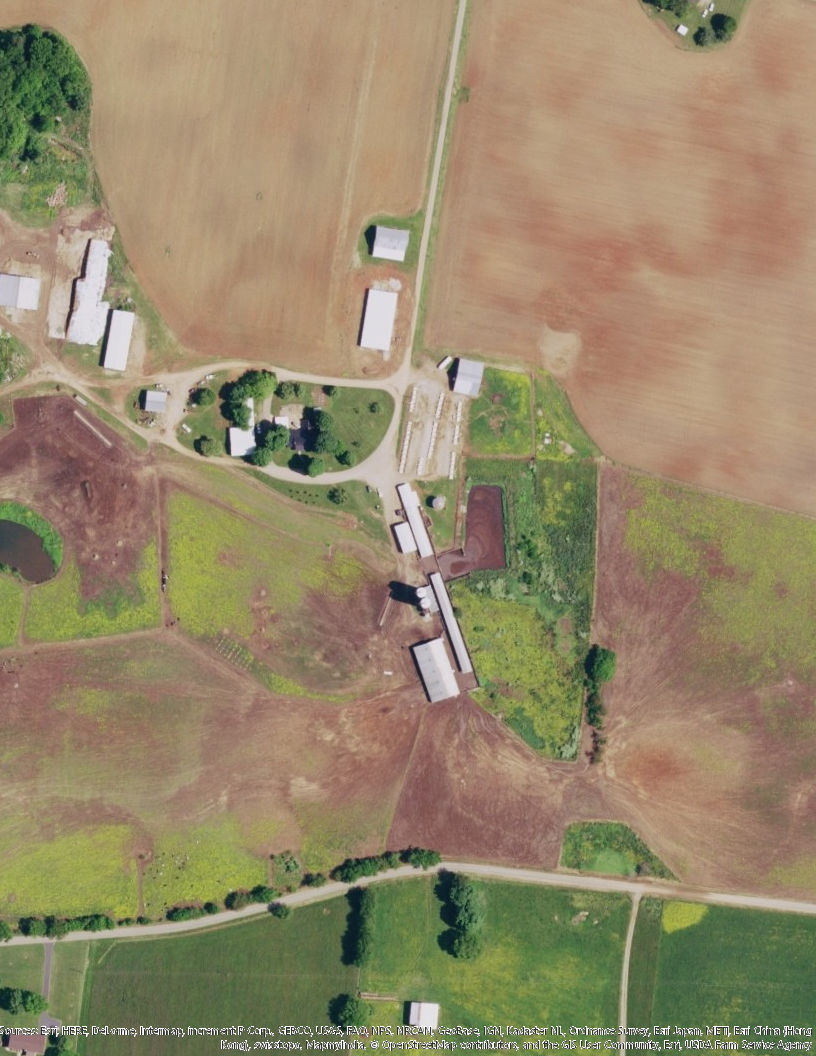cafo: (413, 569, 481, 674), (62, 234, 112, 348), (405, 632, 466, 707), (387, 478, 441, 562), (351, 283, 406, 353), (98, 301, 137, 374)
